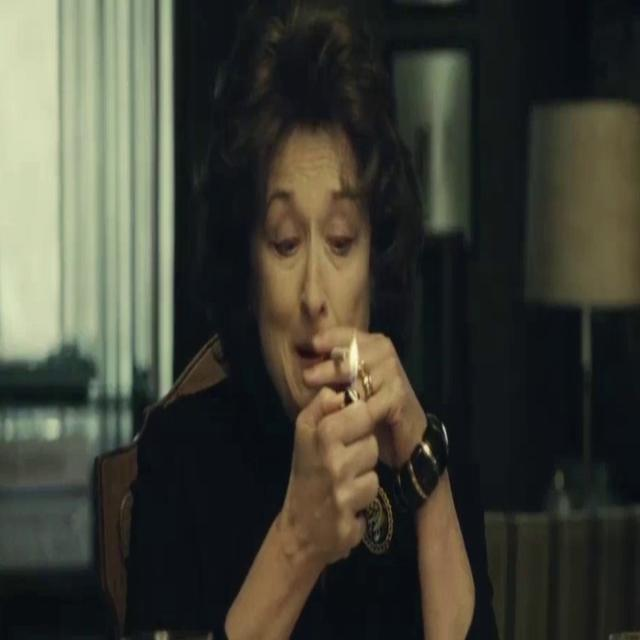Smooking: (332, 344, 360, 369)
